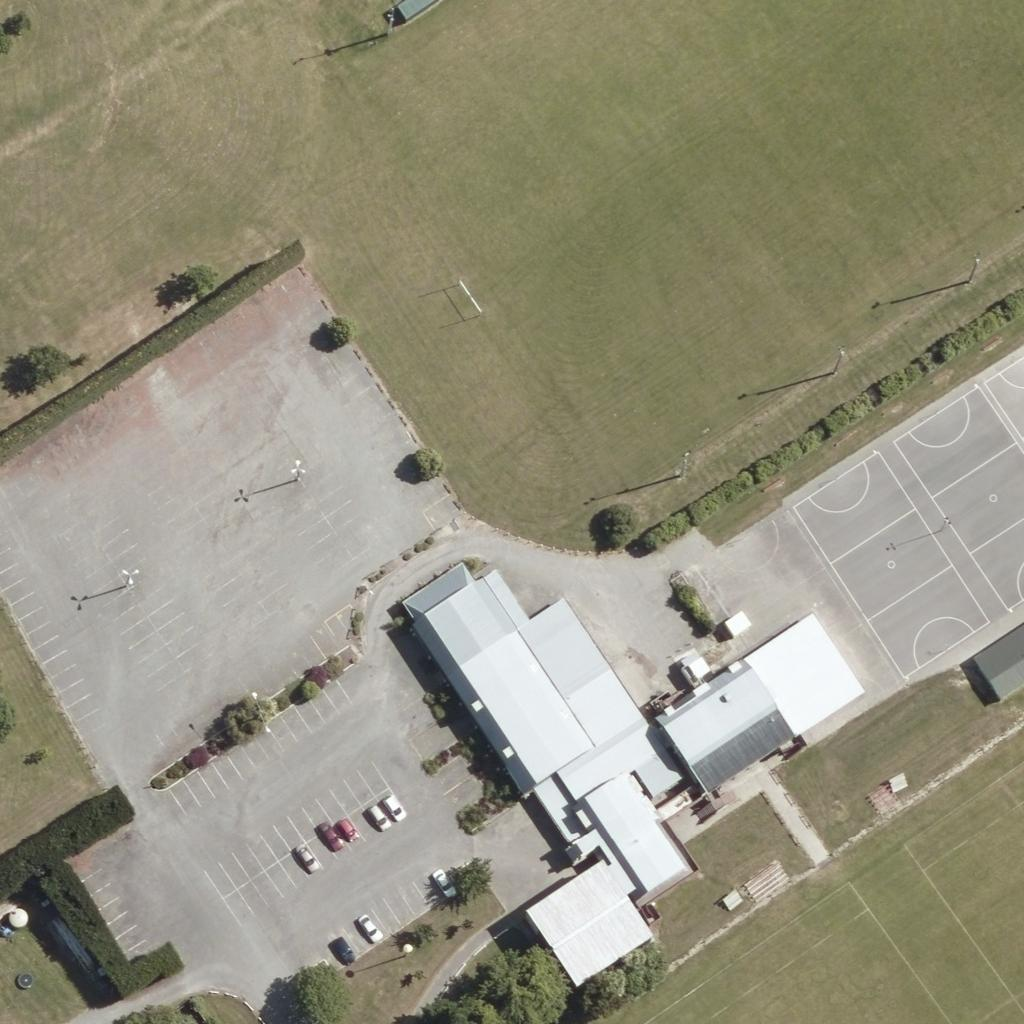car: (375, 788, 409, 822), (360, 798, 394, 832), (330, 811, 364, 845), (313, 816, 347, 850), (289, 839, 323, 873), (426, 864, 460, 898), (352, 910, 386, 944), (326, 929, 360, 963)
